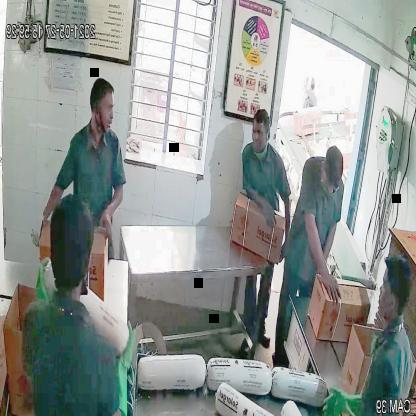no_goggles: (95, 100, 116, 118)
